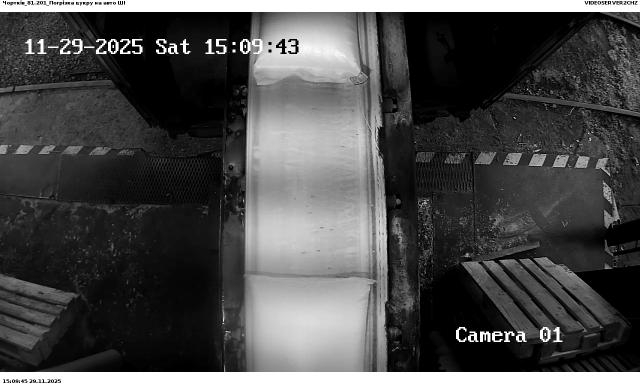bag: (245, 273, 377, 372), (253, 12, 369, 86)
